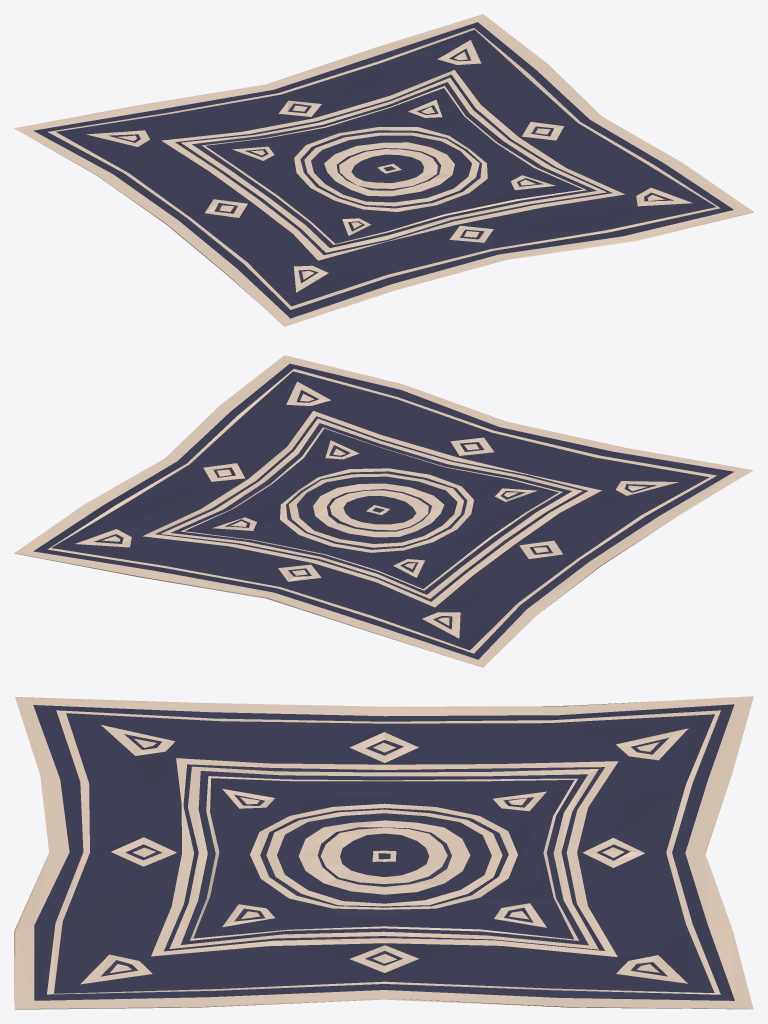
The model's file is SFFA_Rug_003.fbx.
3 views of the same model, one above another, from view 1: azimuth 30°, elevation 25°; view 2: azimuth 150°, elevation 25°; view 3: azimuth 270°, elevation 25° (orthographic). The views are drawn at different scales.
Visible parts, largest first — view 1: SFFA_Rug_003; view 2: SFFA_Rug_003; view 3: SFFA_Rug_003.
Boxes of the visible parts, <box> form: SFFA_Rug_003: <box>14,14,753,326</box>; SFFA_Rug_003: <box>14,355,753,667</box>; SFFA_Rug_003: <box>14,696,753,1009</box>.
Bounding box in the file's own units: 295 × 1.14 × 295.
